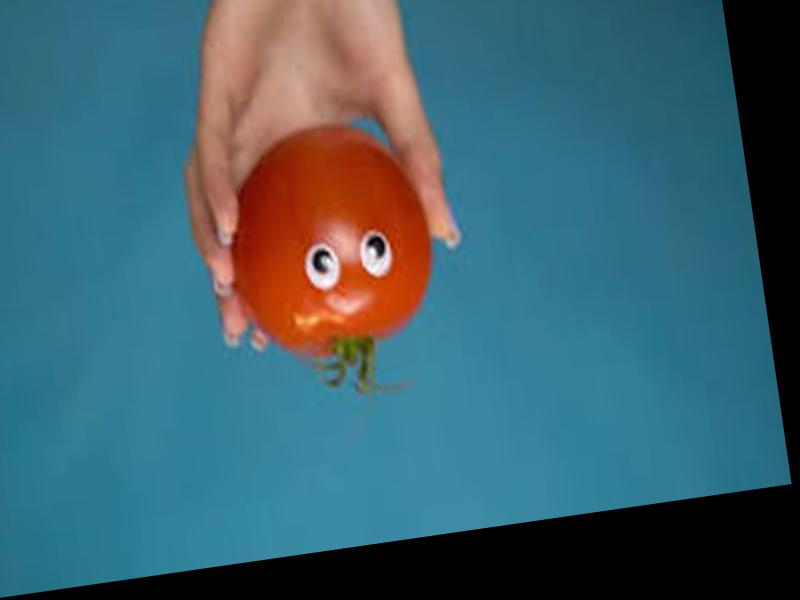Tomato: (212, 112, 447, 370)
